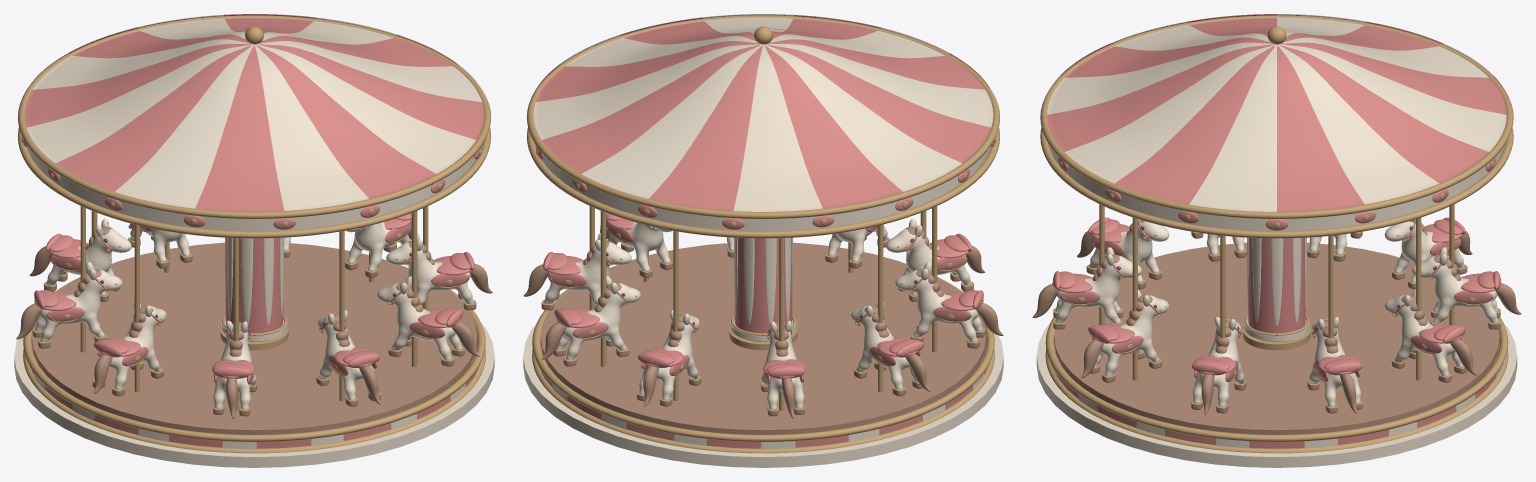
The model's file is carousel.glb.
3 views of the same model, side by side, from view 1: azimuth 30°, elevation 25°; view 2: azimuth 150°, elevation 25°; view 3: azimuth 270°, elevation 25° (orthographic).
Visible parts, largest first — view 1: curved striped canopy (×16), circular moulding (×5), rounded rim (×4), single sculpted pony body (×9), carousel pole (×5), moulded center column panel (×2); view 2: curved striped canopy (×16), circular moulding (×5), rounded rim (×4), single sculpted pony body (×9), carousel pole (×5), moulded center column panel (×2); view 3: curved striped canopy (×16), circular moulding (×6), rounded rim (×4), single sculpted pony body (×8), carousel pole (×4), moulded center column panel (×3).
Boxes of the visible parts, x1=… form: curved striped canopy (×16): x1=20, y1=14, x2=488, y2=211; circular moulding (×5): x1=14, y1=44, x2=494, y2=467; rounded rim (×4): x1=18, y1=15, x2=490, y2=453; single sculpted pony body (×9): x1=35, y1=222, x2=473, y2=409; carousel pole (×5): x1=80, y1=206, x2=417, y2=410; moulded center column panel (×2): x1=241, y1=238, x2=273, y2=324; curved striped canopy (×16): x1=529, y1=14, x2=997, y2=211; circular moulding (×5): x1=523, y1=44, x2=1003, y2=467; rounded rim (×4): x1=527, y1=15, x2=999, y2=453; single sculpted pony body (×9): x1=544, y1=222, x2=982, y2=409; carousel pole (×5): x1=600, y1=206, x2=937, y2=410; moulded center column panel (×2): x1=744, y1=238, x2=776, y2=324; curved striped canopy (×16): x1=1042, y1=14, x2=1511, y2=211; circular moulding (×6): x1=1036, y1=44, x2=1517, y2=467; rounded rim (×4): x1=1040, y1=15, x2=1513, y2=453; single sculpted pony body (×8): x1=1055, y1=221, x2=1498, y2=406; carousel pole (×4): x1=1132, y1=217, x2=1421, y2=380; moulded center column panel (×3): x1=1252, y1=238, x2=1301, y2=325.
Size of the model in its own units: 12.06 by 9.39 by 12.28.
